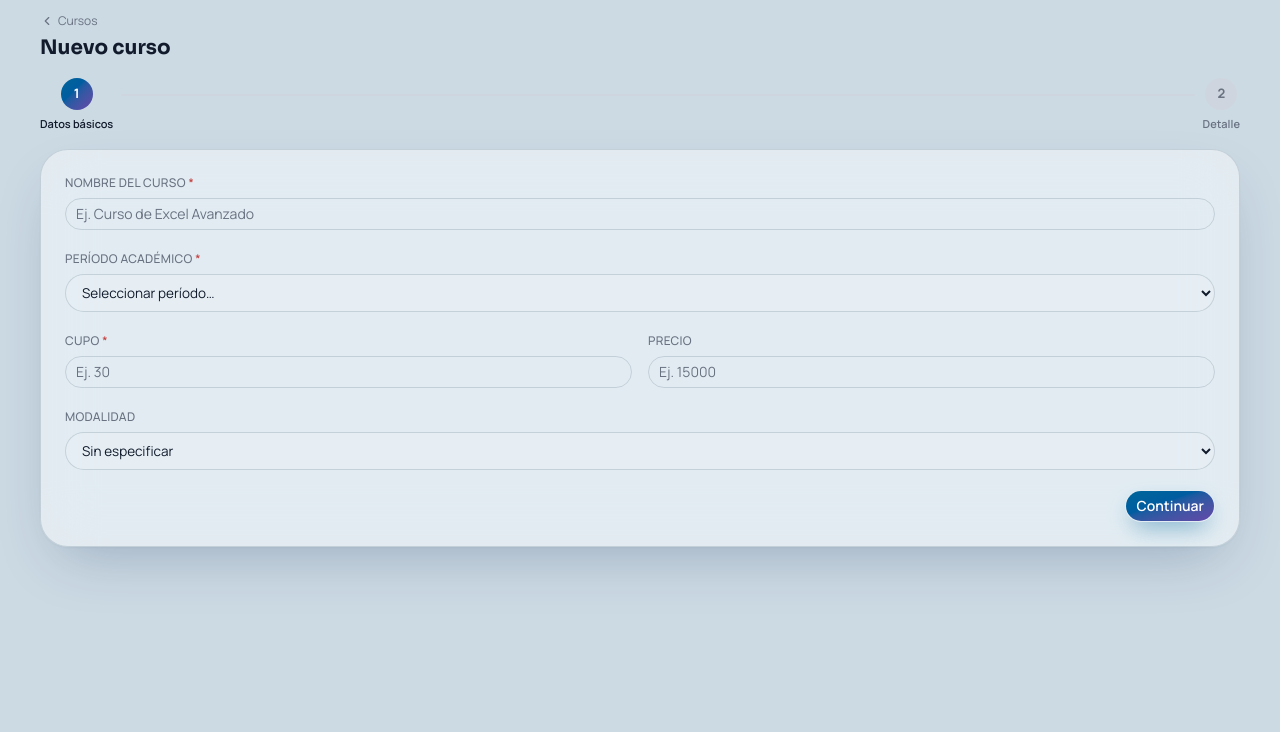
it: CursoWizard › marks the current step and lets the user go back to a visited step
Type "Excel avanzado" into the field with placeholder "Ej. Curso de Excel Avanzado" at (640, 214), box [65,198,1215,230]
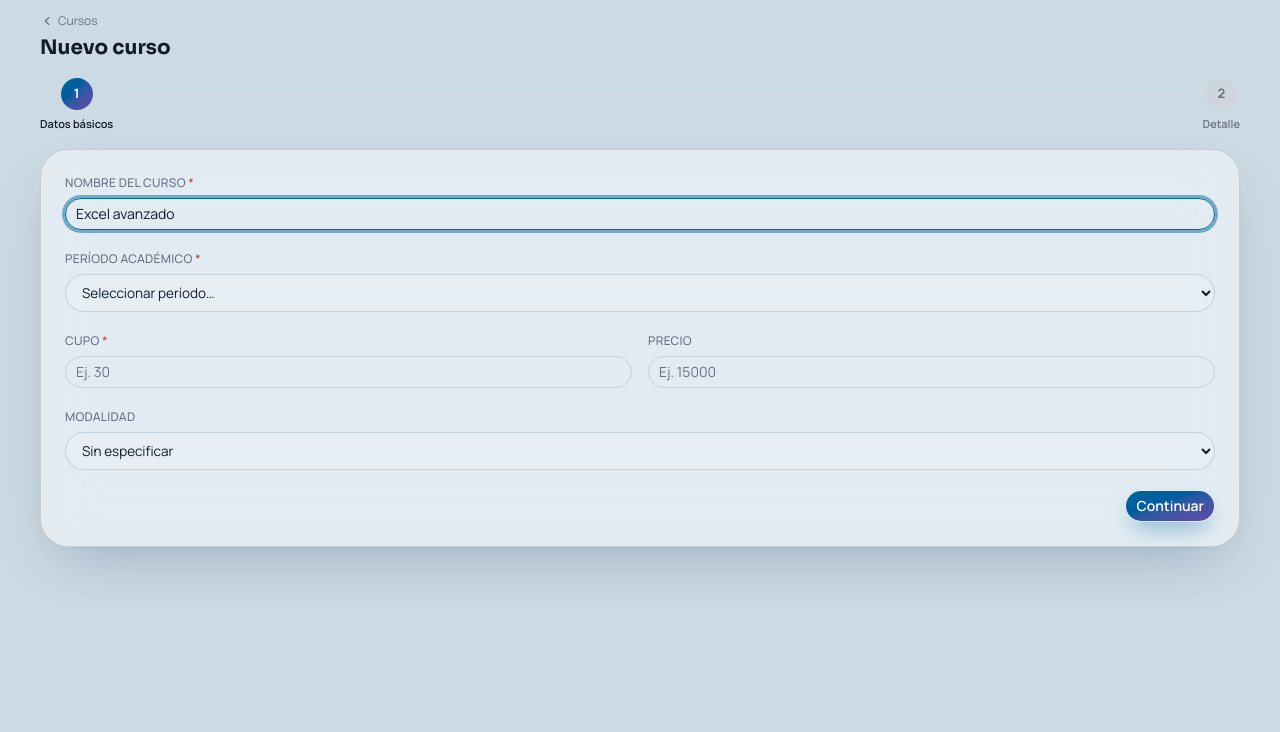
Select "2027 — Anual" in the dropdown below "Período académico" at (640, 292), box [65,274,1215,312]
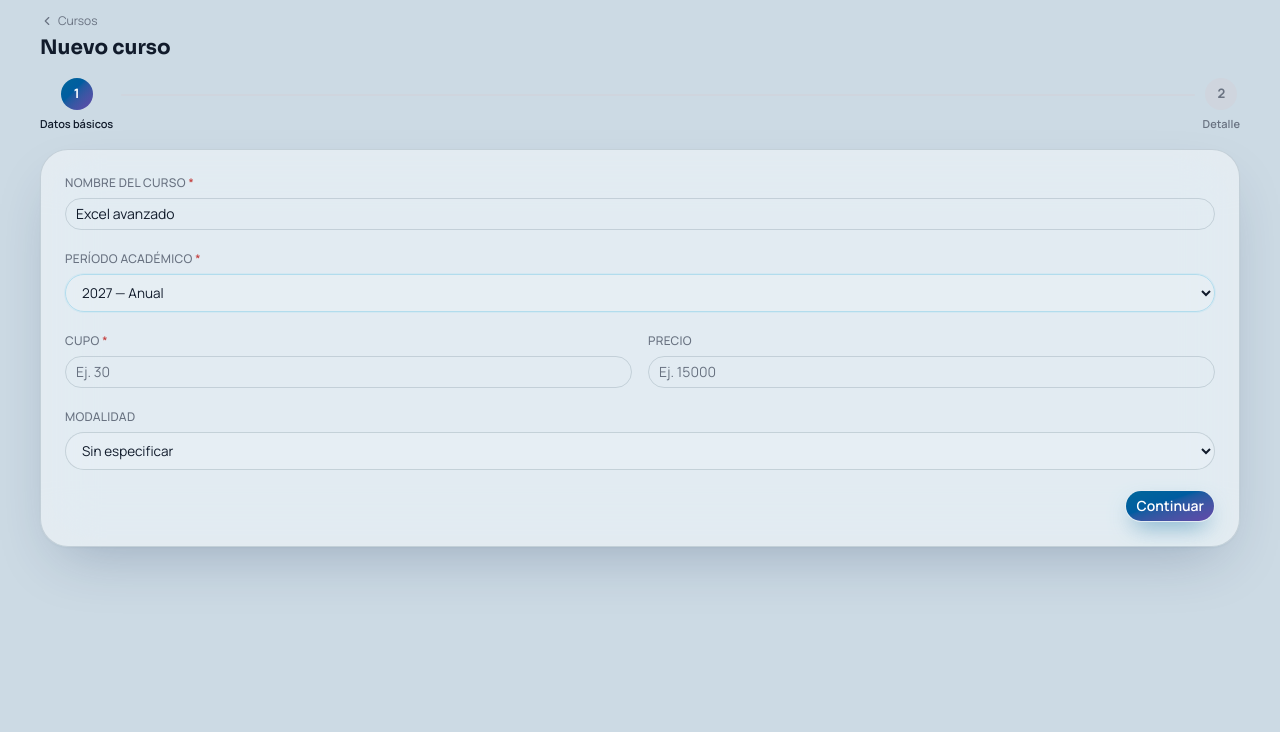
Type "20" into the number field with placeholder "Ej. 30" at (348, 372), box [65,356,632,388]
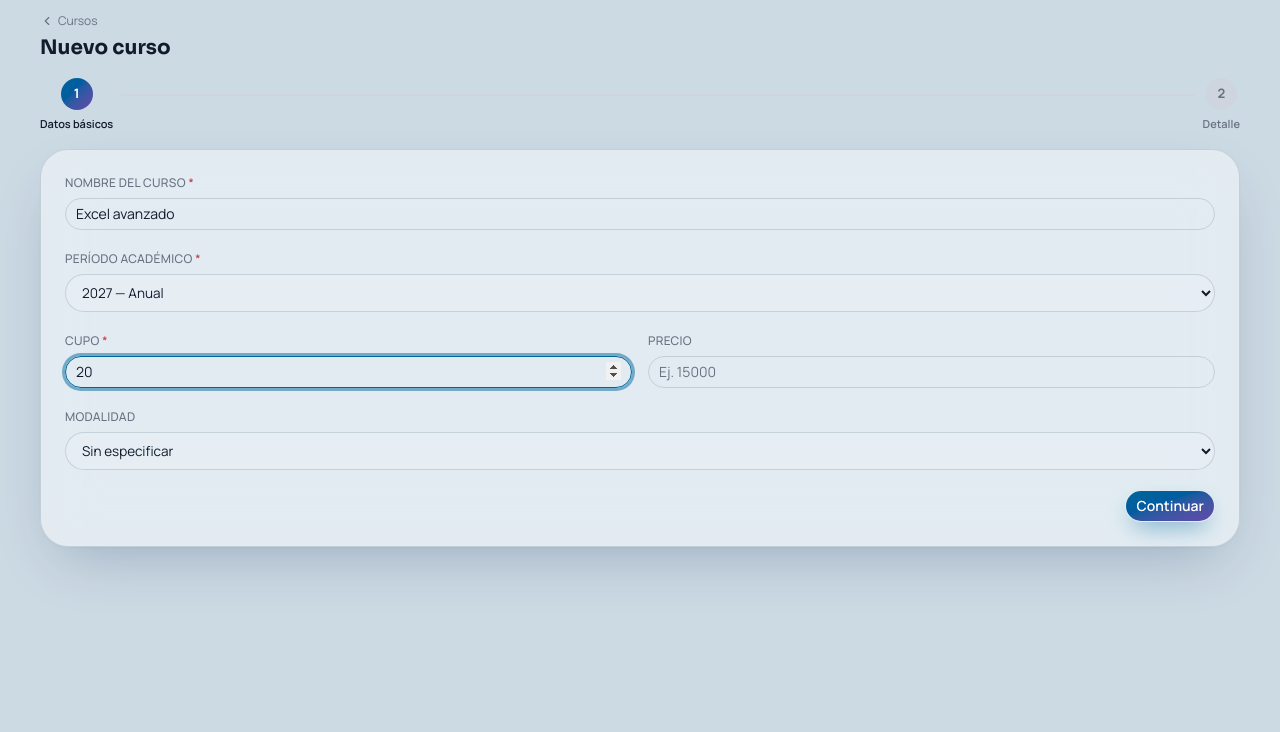
Click the button "Continuar" at (1170, 506), box [1125,490,1215,522]
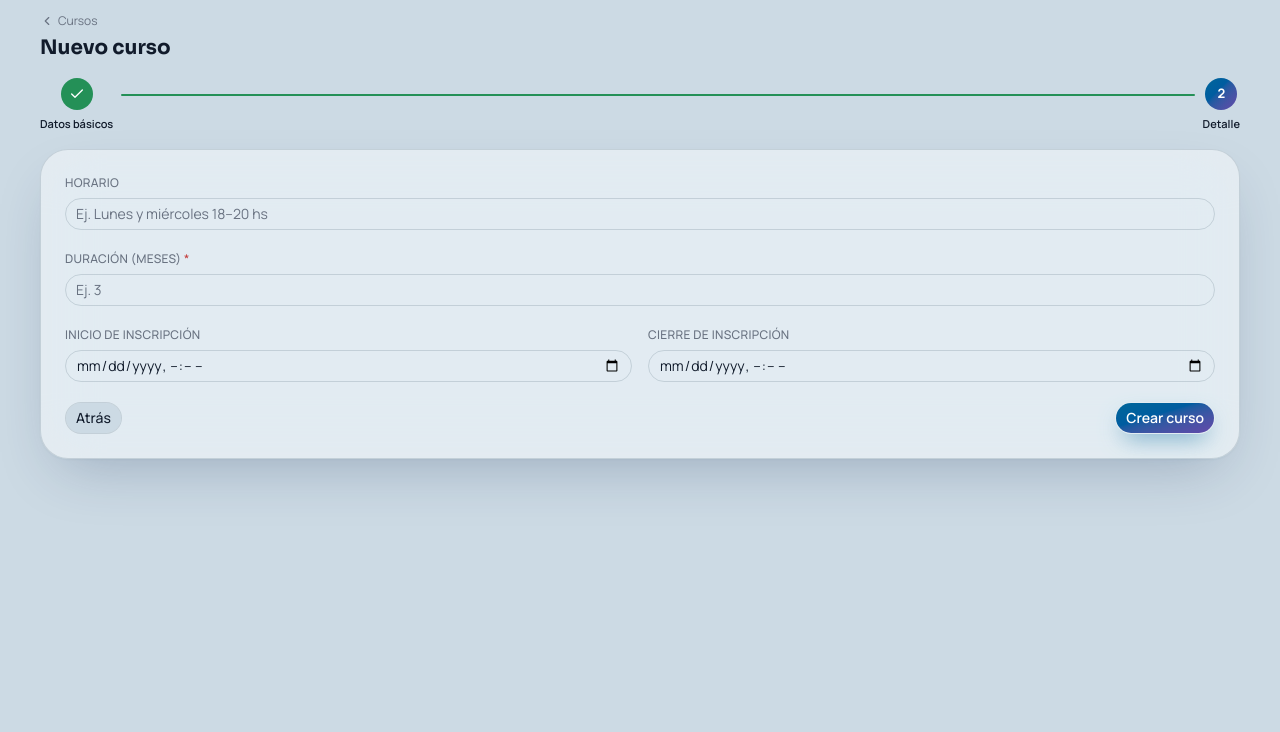
Check: the button "Datos básicos" is enabled
Click the button "Datos básicos" at (77, 105), box [40,78,113,132]
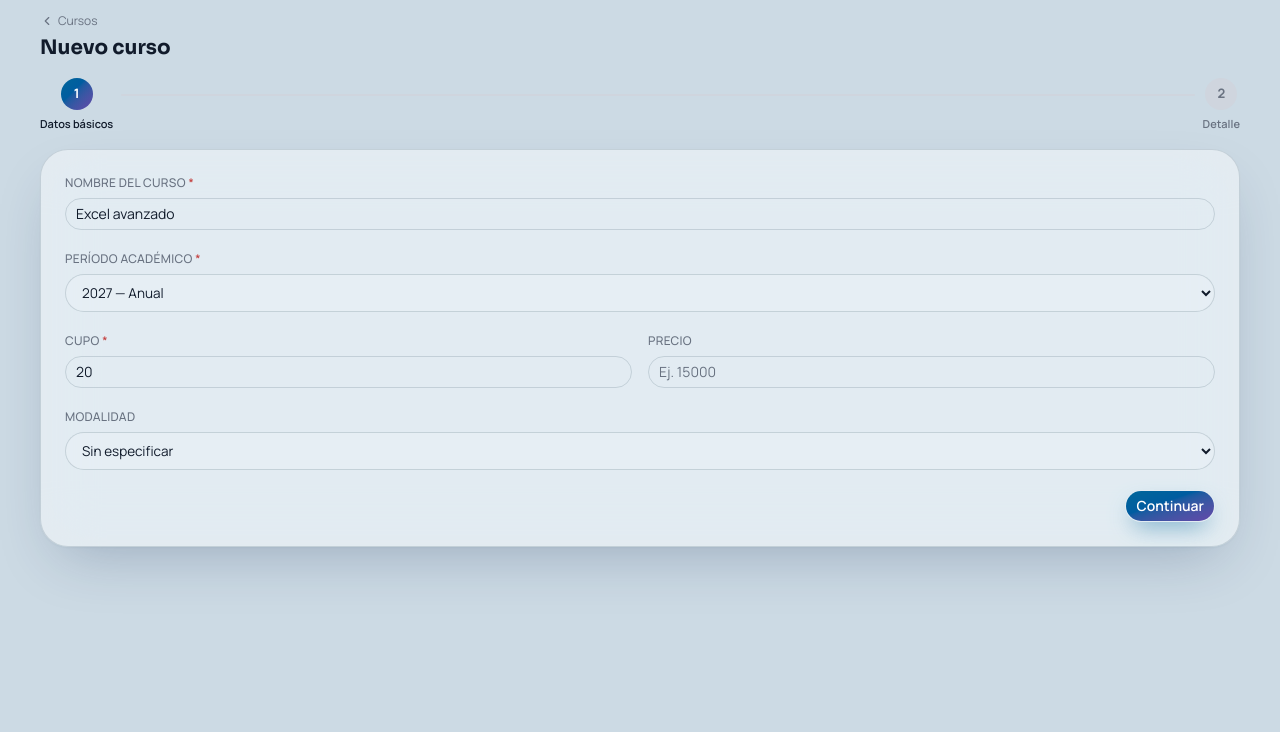
Check: the field with placeholder "Ej. Curso de Excel Avanzado" holds "Excel avanzado", box [65,198,1215,230]
